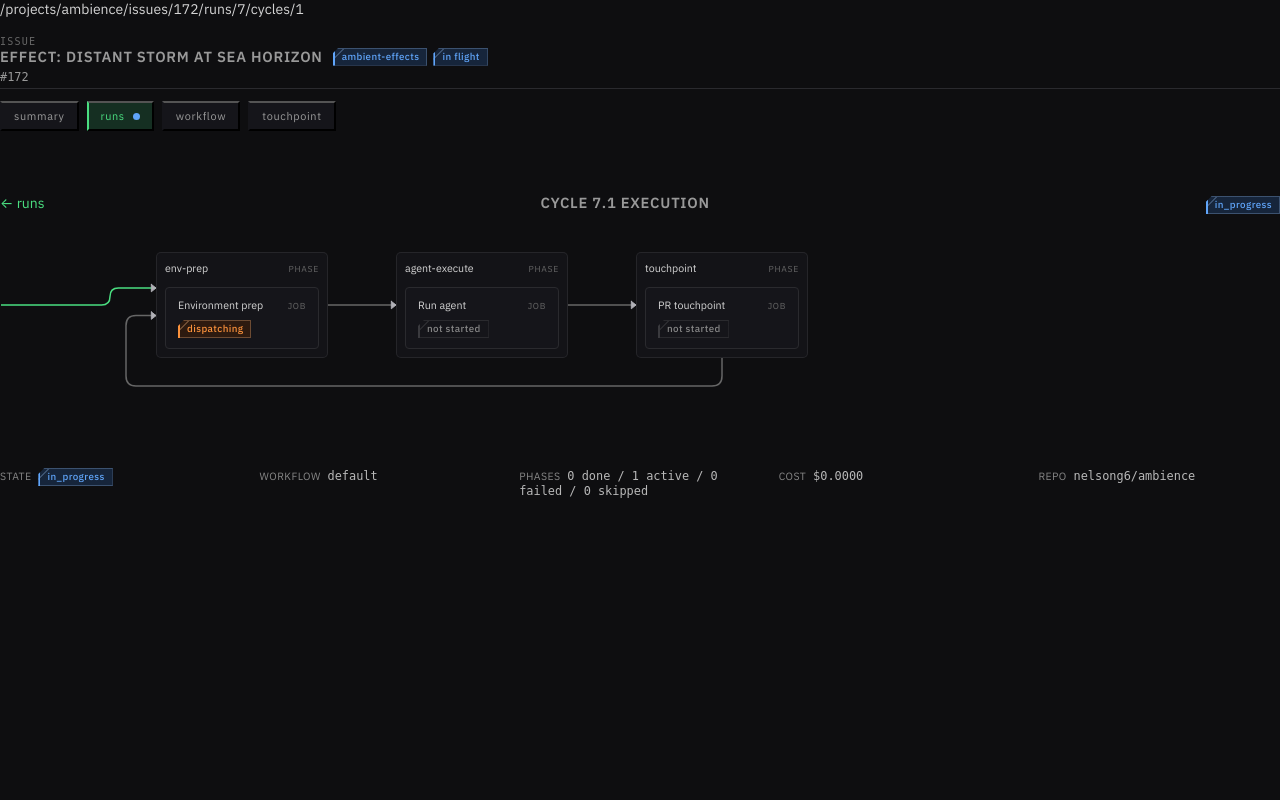
Test case: IssueDetailView run execution graph › opens planned steps for a job before any attempt has started
The width and height of the screenshot is (1280, 800).
Click the button "Run agent job not started" at (482, 318), box x1=405 y1=287 x2=559 y2=349
(page scrolled)
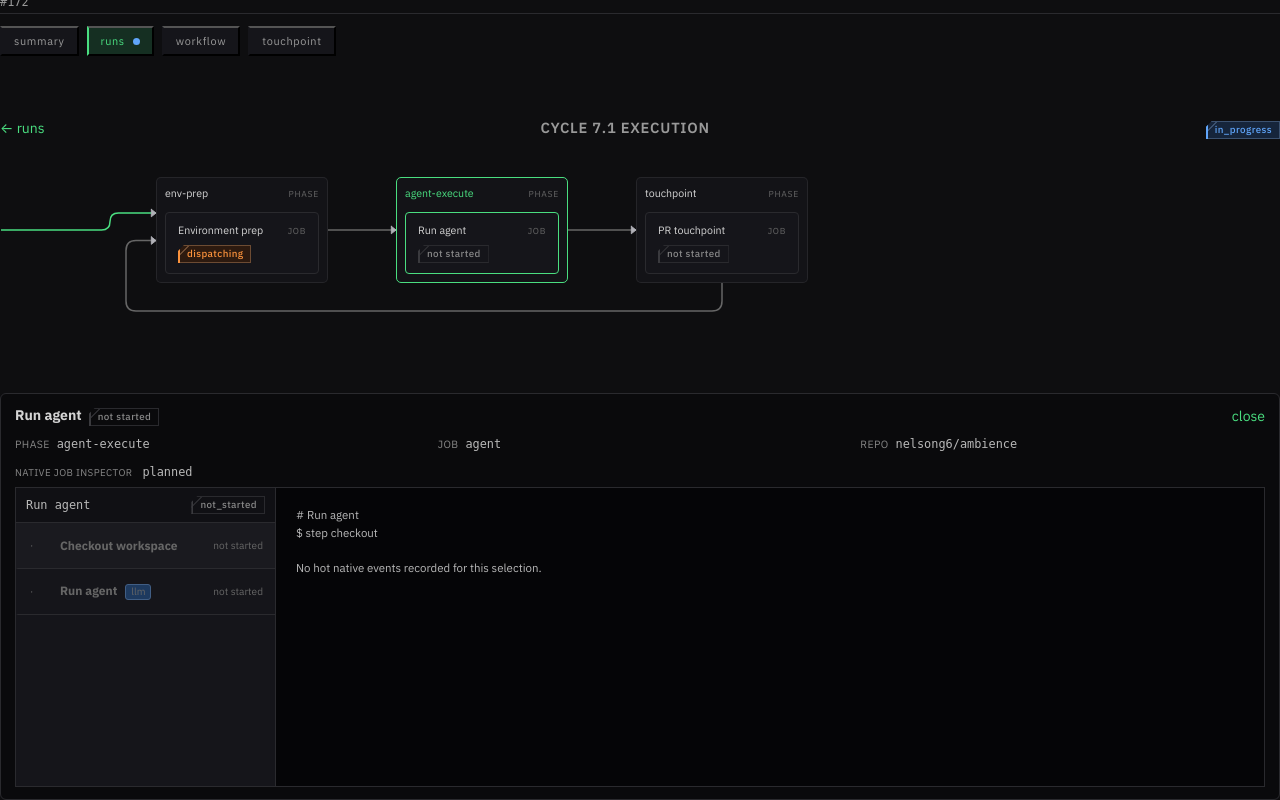
Expected: the text "native job inspector" is shown, x1=15 y1=466 x2=132 y2=479
Expected: the text "planned" is shown, x1=142 y1=465 x2=192 y2=479
Expected: the button "· Checkout workspace not started" is shown, x1=16 y1=523 x2=275 y2=569
Click the button "· Run agent llm not started" at (146, 592), box x1=16 y1=569 x2=275 y2=615
(page scrolled)
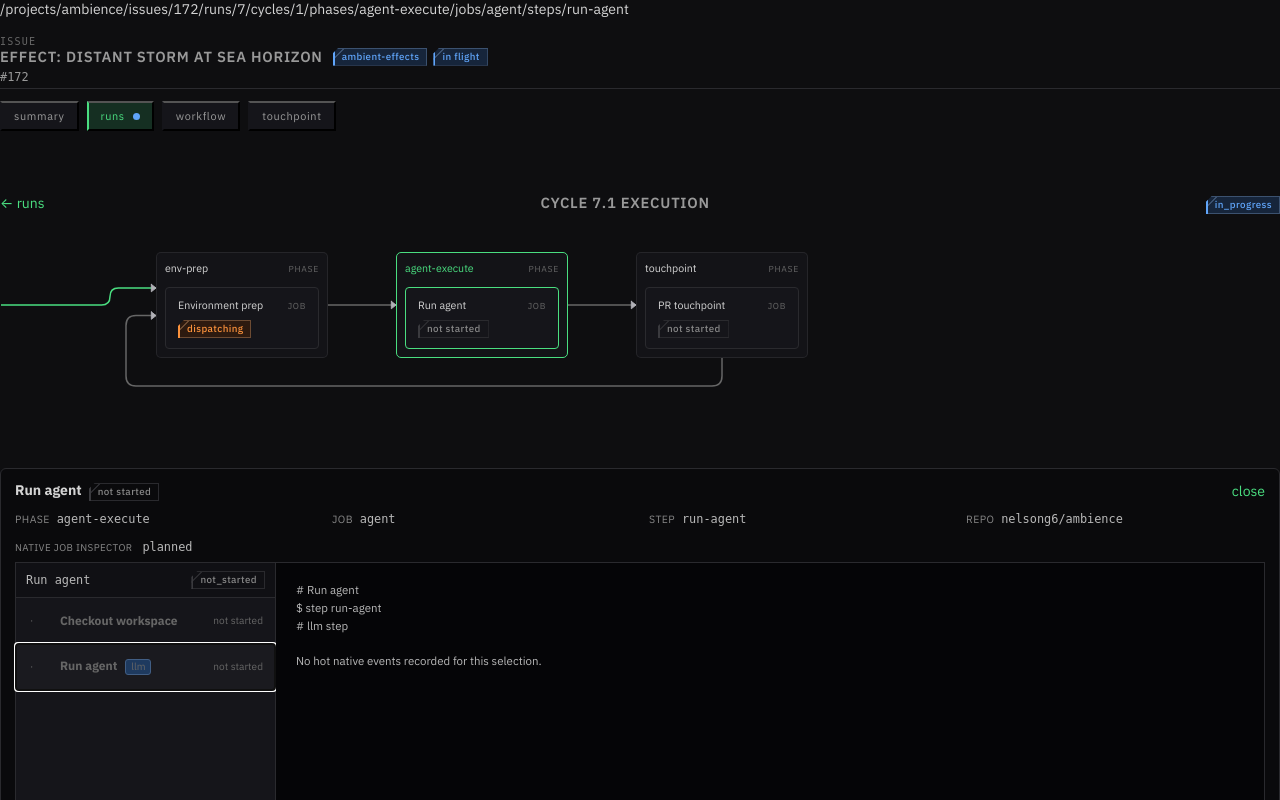
Expected: the text with test id "path" shows "/projects/ambience/issues/172/runs/7/cycles/1/phases/agent-execute/jobs/agent/steps/run-agent", x1=0 y1=0 x2=629 y2=18
